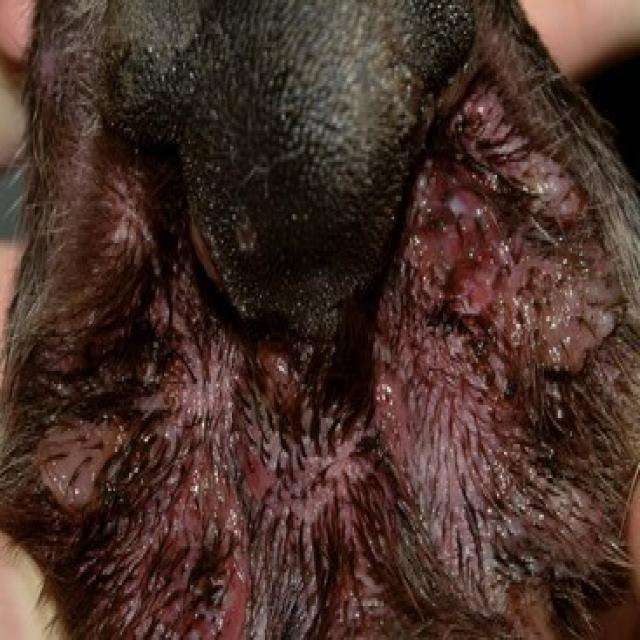qua man cho: (38, 1, 632, 640)
